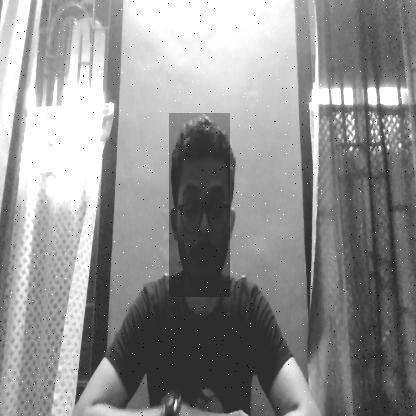Normal: (169, 113, 230, 297)
